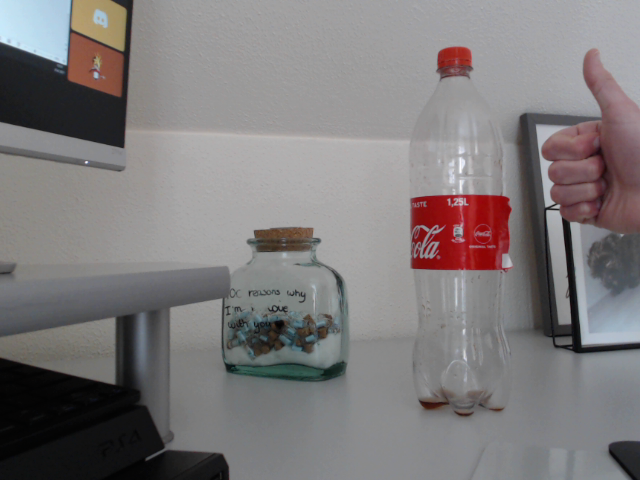bottle: (407, 47, 513, 416)
